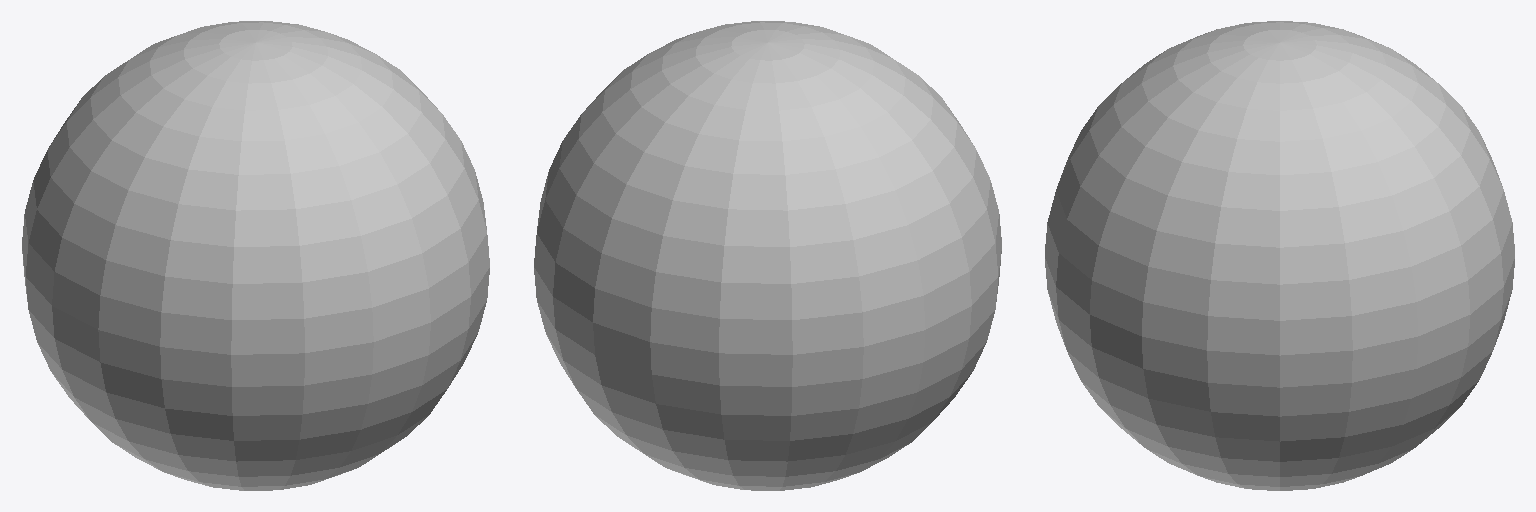
File: Disco ball.obj
The picture shows the model from 3 angles: view 1: azimuth 30°, elevation 25°; view 2: azimuth 150°, elevation 25°; view 3: azimuth 270°, elevation 25°; orthographic projection.
Visible parts, largest first — view 1: pSphere1; view 2: pSphere1; view 3: pSphere1.
Boxes of the visible parts, x1,y1,x2,y2 form: pSphere1: [22, 21, 489, 490]; pSphere1: [534, 21, 1001, 490]; pSphere1: [1045, 21, 1514, 490].
Size of the model in its own units: 0.812 by 0.812 by 0.812.